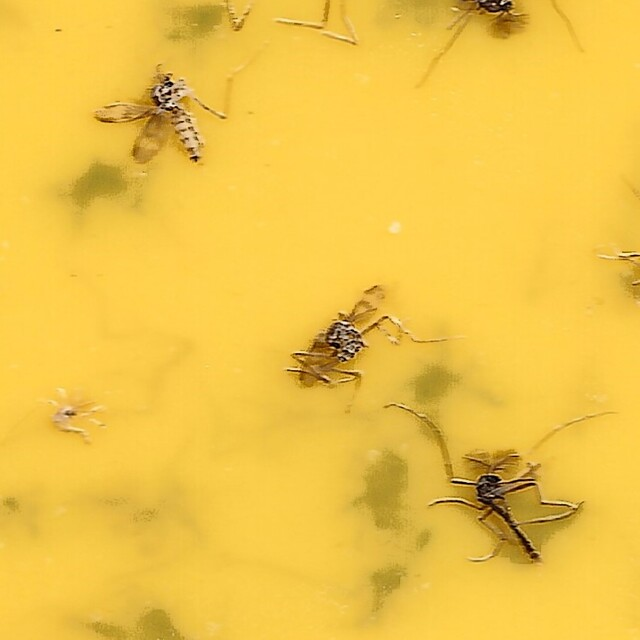Nematocera: (291, 285, 391, 401), (455, 448, 551, 566), (89, 74, 209, 167)
